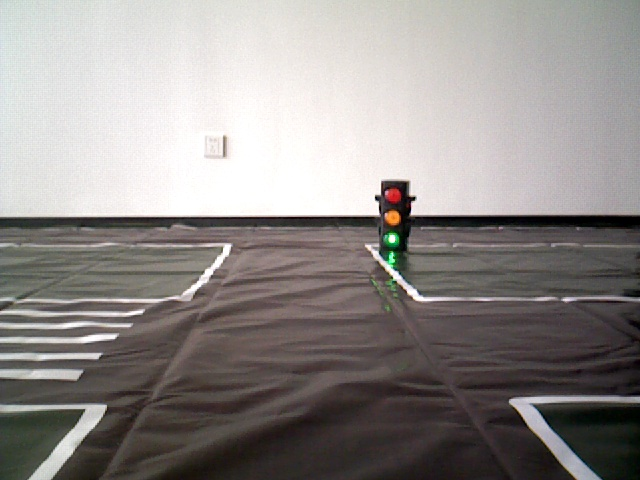green: (381, 181, 406, 247)
